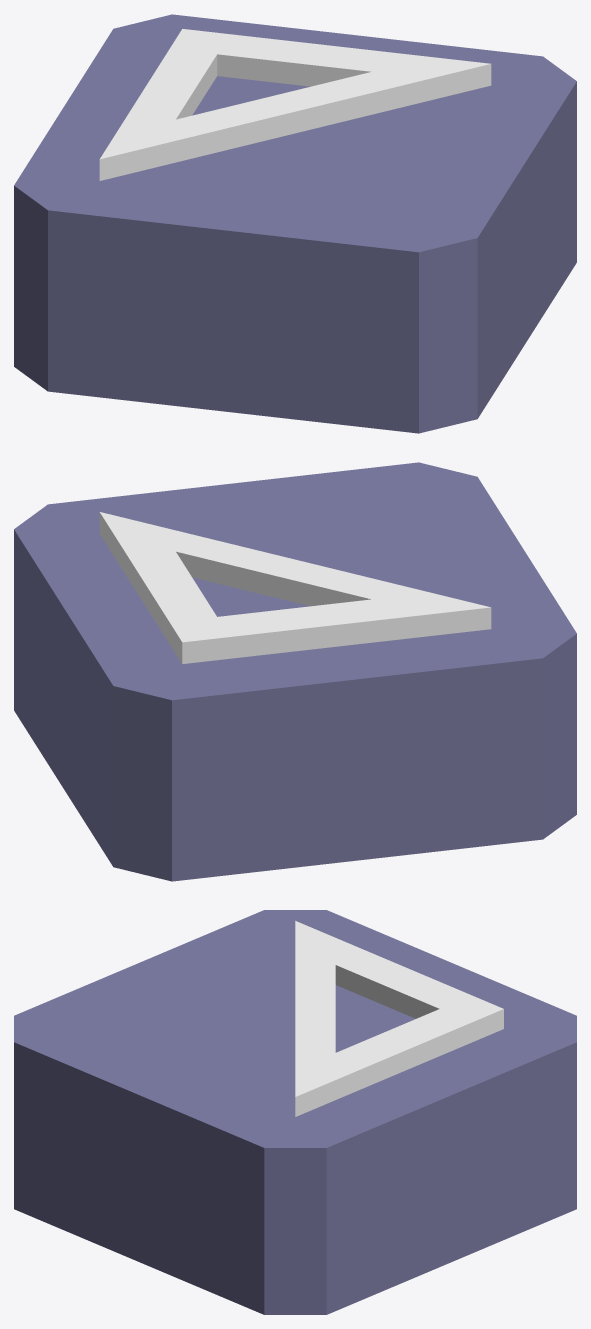
The model's file is rover_TopArrow.gltf.
The picture shows the model from 3 angles, top to bottom: view 1: azimuth 30°, elevation 25°; view 2: azimuth 150°, elevation 25°; view 3: azimuth 270°, elevation 25°; orthographic projection. The views are drawn at different scales.
Parts seen in each view (by area): view 1: pCube14, polySurface2; view 2: pCube14, polySurface2; view 3: pCube14, polySurface2.
Part boxes in pixels (<box>): pCube14: <box>14,14,576,433</box>; polySurface2: <box>99,29,491,180</box>; pCube14: <box>14,462,576,881</box>; polySurface2: <box>99,512,491,663</box>; pCube14: <box>14,910,576,1314</box>; polySurface2: <box>295,921,503,1116</box>.
Size of the model in its own units: 0.7637 by 0.28 by 0.7637.
